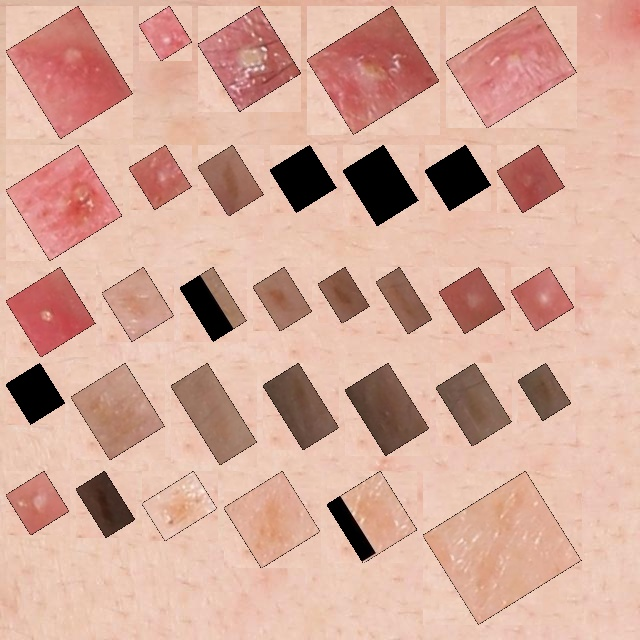melasma: (434, 482, 570, 613), (235, 482, 309, 557), (82, 374, 153, 449), (182, 374, 246, 454), (338, 482, 406, 552), (356, 374, 418, 444), (274, 374, 328, 439), (447, 374, 501, 435), (354, 156, 407, 215), (113, 278, 163, 330), (153, 482, 206, 530), (191, 278, 235, 330), (209, 156, 252, 205), (281, 156, 325, 201), (436, 156, 480, 199), (264, 278, 301, 320), (387, 278, 421, 323), (17, 374, 54, 413), (529, 374, 560, 409), (329, 278, 358, 312)
nevus: (87, 482, 124, 526)
pustule: (318, 17, 428, 123), (17, 17, 122, 127), (457, 17, 565, 117), (17, 156, 111, 249), (209, 17, 290, 100), (17, 278, 84, 346), (508, 156, 553, 201), (450, 278, 494, 322), (522, 278, 563, 320), (17, 482, 58, 524), (140, 156, 180, 198), (150, 17, 181, 50)
